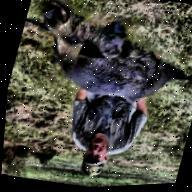boar: (17, 0, 192, 129)
